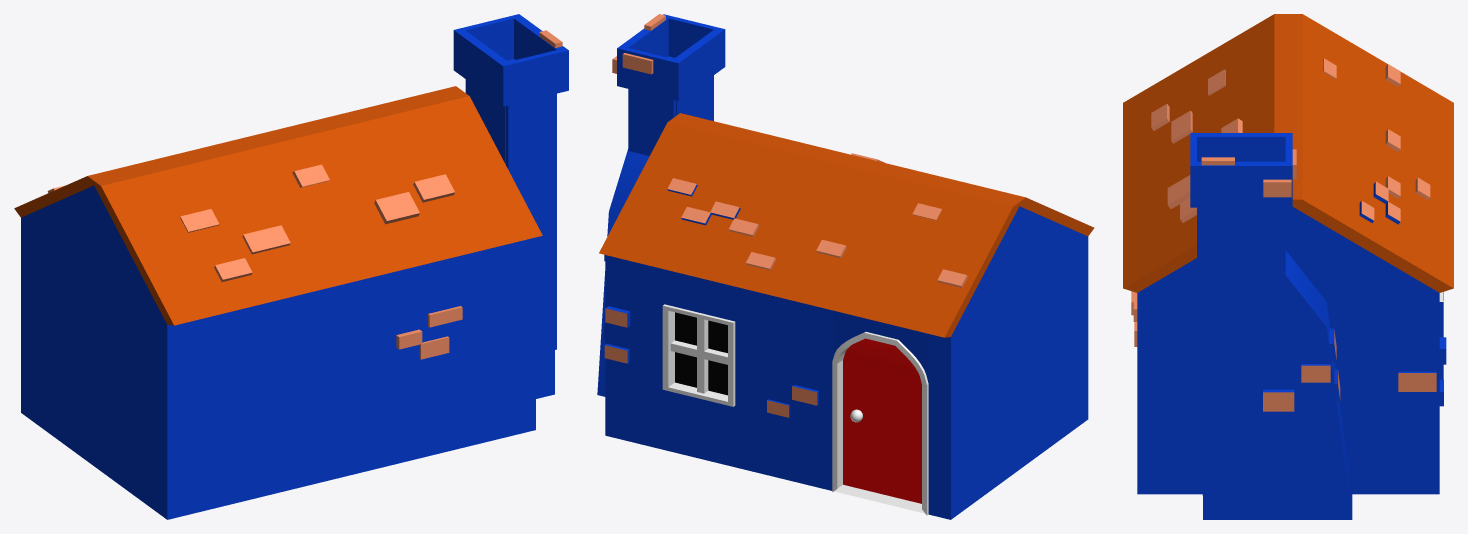
Rendered from house4.fbx.
3 renders of one model, left to right at view 1: azimuth 30°, elevation 25°; view 2: azimuth 150°, elevation 25°; view 3: azimuth 270°, elevation 25°, orthographic. The views are drawn at different scales.
Parts seen in each view (by area): view 1: house4; view 2: house4; view 3: house4.
Boxes of the visible parts, left/top/right/bottom form: house4: left=14, top=14, right=568, bottom=519; house4: left=597, top=14, right=1094, bottom=519; house4: left=1123, top=14, right=1453, bottom=519.
Bounding box in the file's own units: 360 × 279 × 231.
